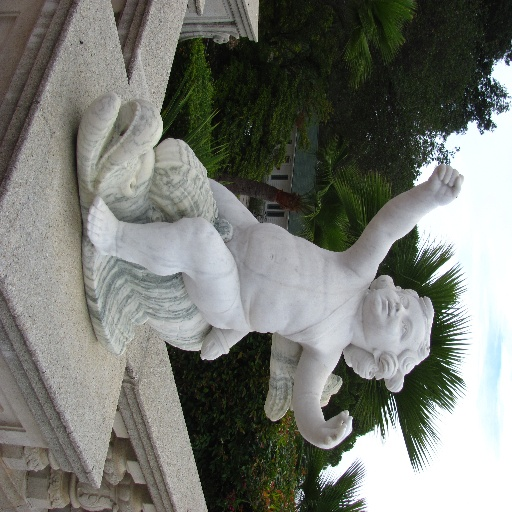hand: (415, 158, 470, 212), (316, 407, 355, 451)
